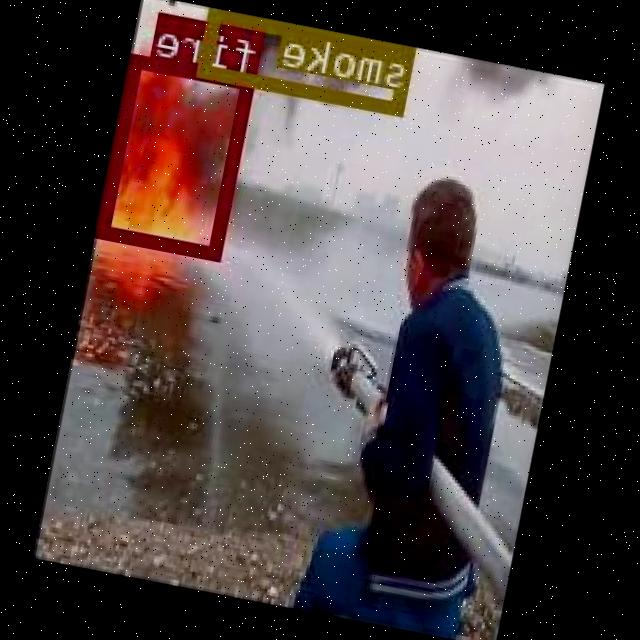fire: (98, 52, 259, 260)
smoke: (202, 7, 418, 114)
